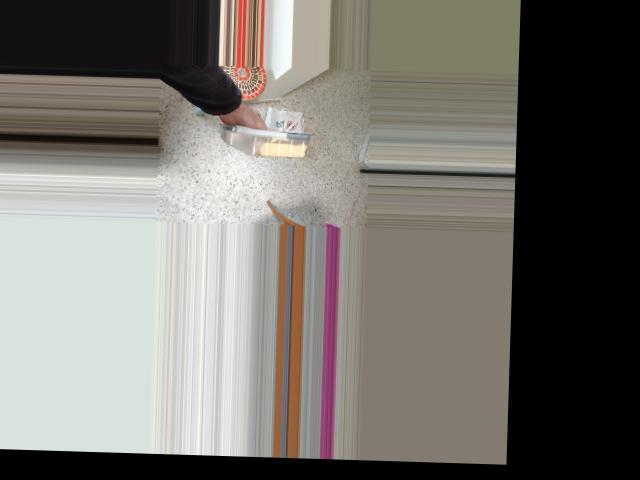cheese: (224, 107, 312, 169)
